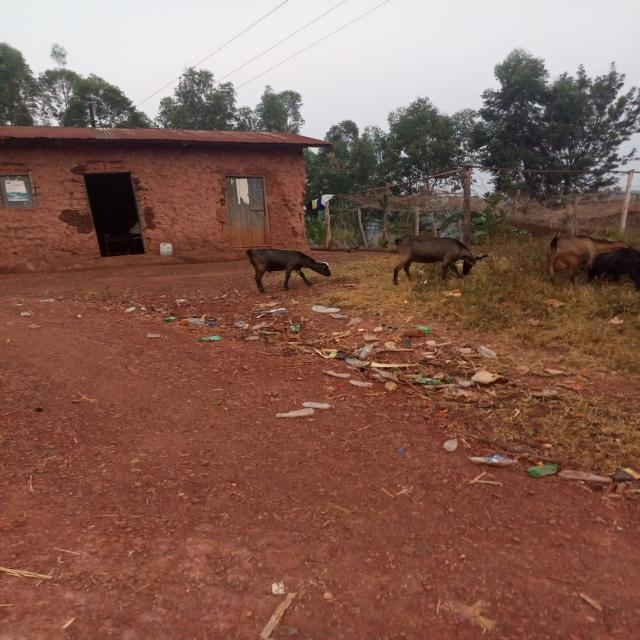goat: (538, 207, 638, 290)
